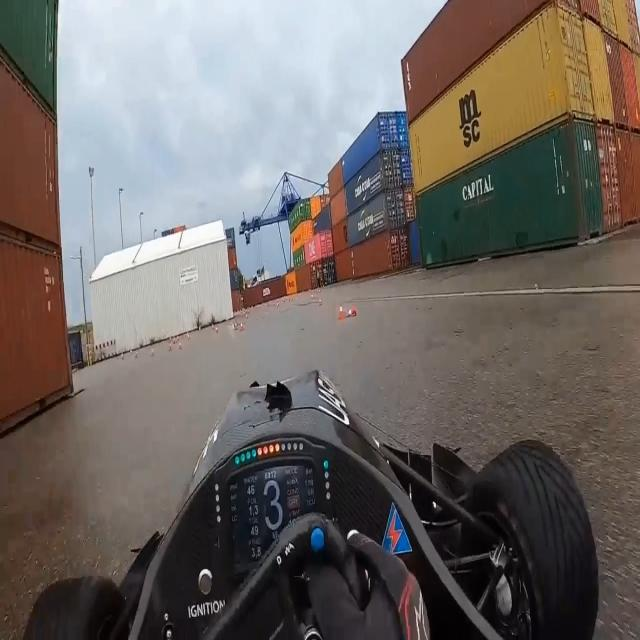Orange cone: (335, 295, 365, 346)
